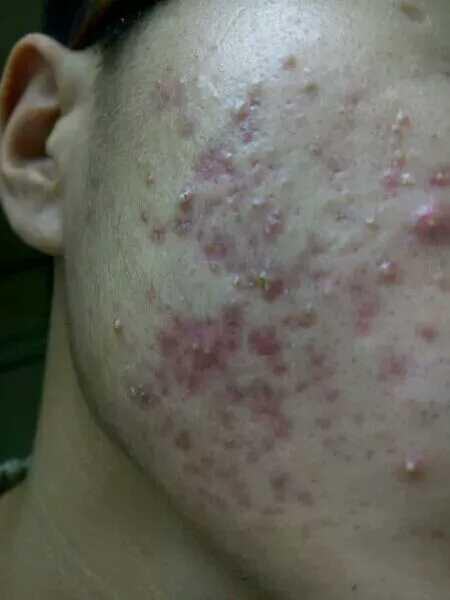fore: (375, 442, 431, 489), (211, 463, 255, 514), (262, 471, 314, 513), (239, 370, 283, 416), (367, 341, 402, 398), (293, 348, 337, 390), (263, 406, 305, 449), (395, 316, 434, 362), (261, 257, 297, 300), (251, 207, 299, 239), (206, 138, 241, 181), (116, 377, 164, 408), (357, 432, 406, 460), (316, 432, 356, 466), (245, 324, 281, 361), (317, 147, 350, 187), (186, 332, 221, 368), (374, 153, 406, 192), (345, 296, 382, 328), (322, 195, 356, 229), (289, 305, 325, 337), (153, 67, 190, 98), (407, 205, 442, 237), (307, 256, 342, 288), (174, 426, 209, 458), (335, 88, 370, 120), (218, 82, 249, 118), (411, 163, 448, 193), (145, 215, 178, 248), (372, 122, 407, 153), (393, 0, 433, 26), (154, 317, 177, 361), (367, 255, 398, 287), (205, 188, 238, 217), (94, 308, 125, 338), (209, 380, 237, 412), (216, 304, 246, 333), (169, 189, 197, 220), (247, 152, 278, 180), (237, 443, 266, 472), (129, 197, 157, 226), (164, 112, 193, 139), (162, 295, 196, 318), (214, 233, 238, 265), (417, 396, 443, 424), (128, 150, 161, 172), (425, 265, 449, 294), (232, 123, 261, 147), (140, 279, 161, 311), (362, 210, 384, 240), (310, 408, 335, 433), (255, 361, 281, 385), (281, 50, 306, 74), (245, 192, 270, 216), (116, 432, 138, 459), (394, 105, 419, 128), (135, 169, 161, 191), (273, 171, 297, 194), (296, 77, 324, 96), (246, 71, 269, 92), (217, 432, 240, 453)
